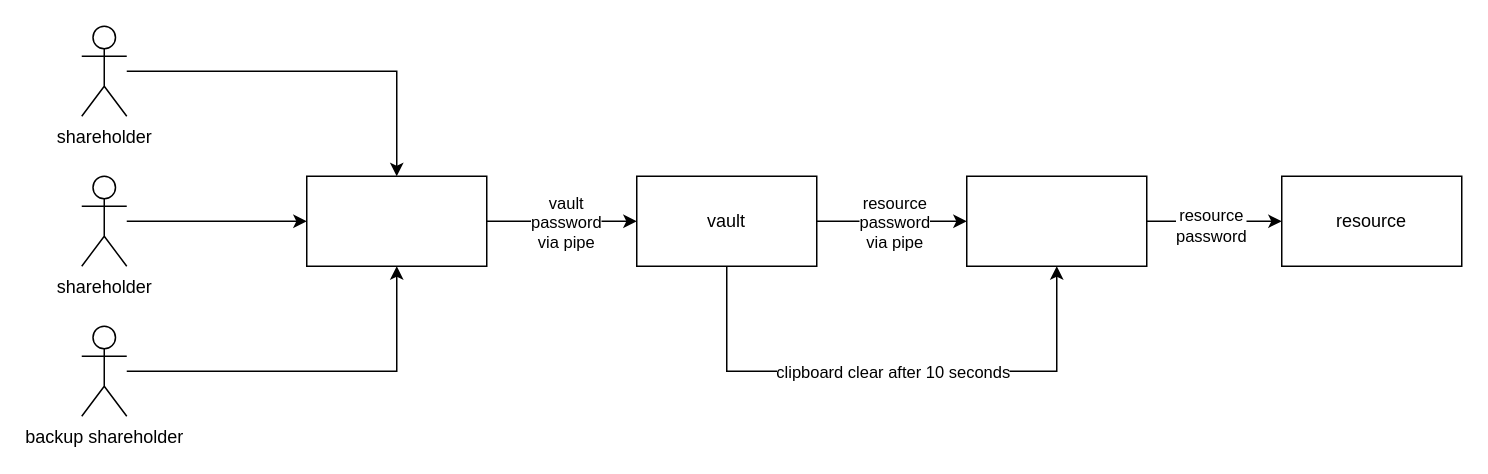
Image size: 1488x474. Some labels were removed from this diagram. Each missing label, with the box of its shape:
clipboard: (965, 175, 1147, 266)
sss-combine: (305, 175, 487, 266)
